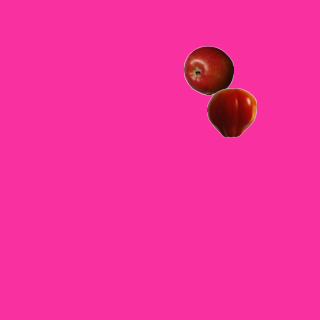Apple Braeburn: (183, 45, 233, 95)
Tomato 1: (206, 87, 256, 137)
